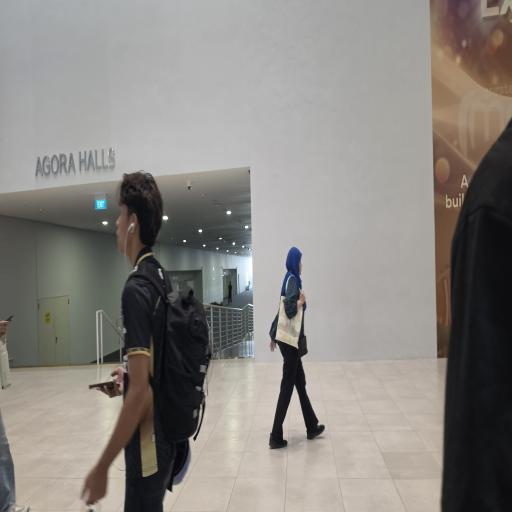person_left: (80, 133, 206, 512)
person_right: (266, 236, 332, 458)
